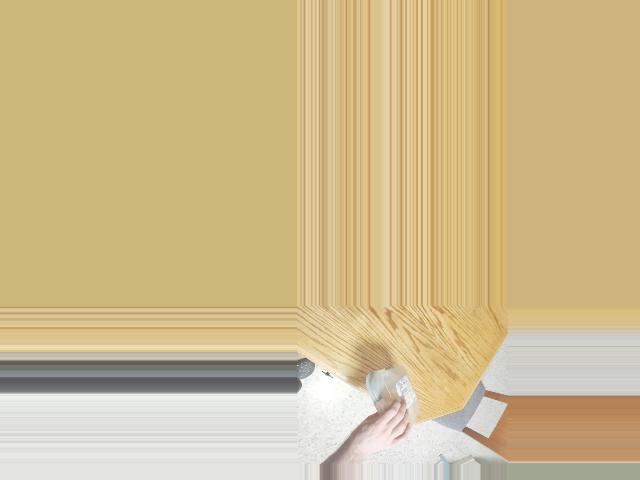cheese: (373, 373, 414, 425)
